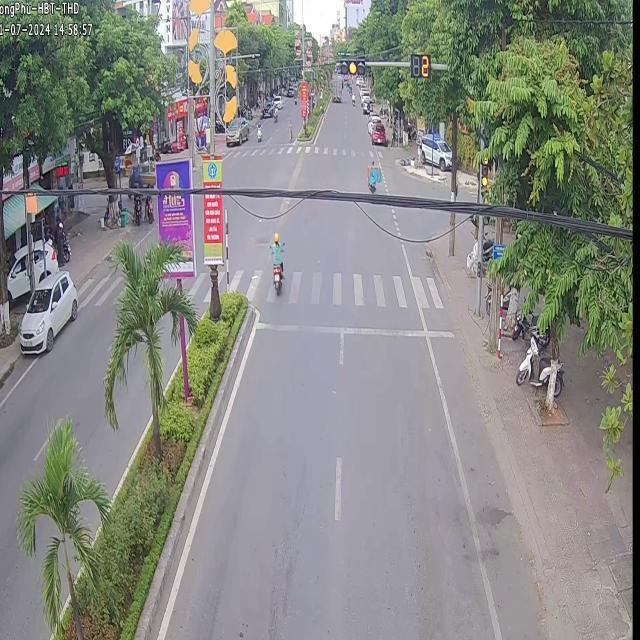motobike: (269, 234, 280, 288), (366, 161, 378, 192)
stop_line: (255, 319, 454, 336)
yellow_light: (338, 56, 364, 74), (477, 156, 487, 190)
